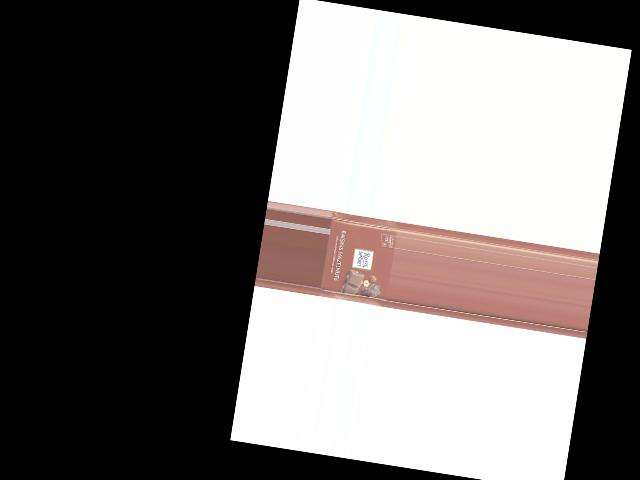chocolate: (318, 211, 398, 308)
